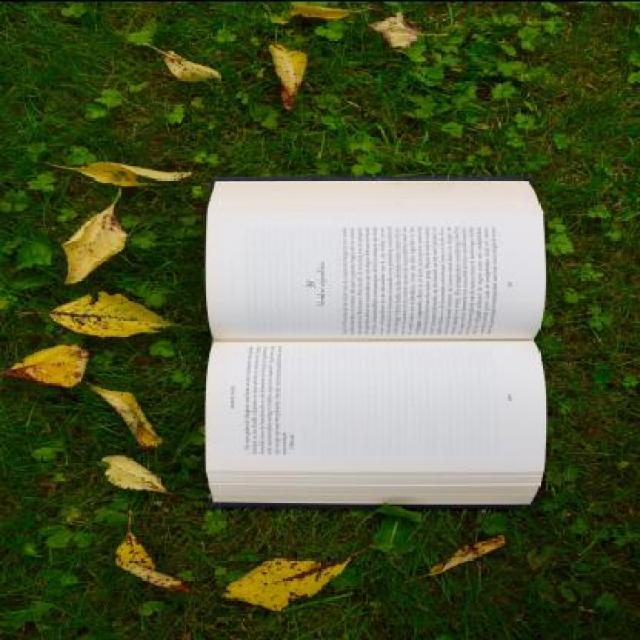book: (168, 153, 567, 540)
